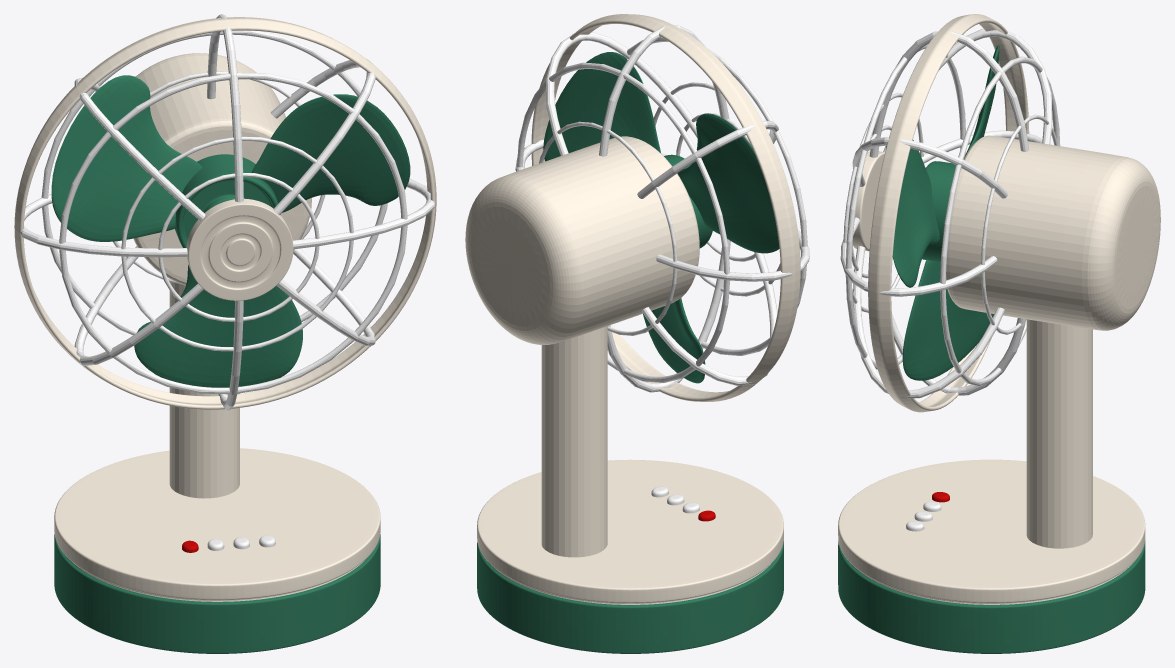
File: 01_Fan_Electric.fbx
3 views of the same model, side by side, from view 1: azimuth 30°, elevation 25°; view 2: azimuth 150°, elevation 25°; view 3: azimuth 270°, elevation 25° (orthographic). The views are drawn at different scales.
Parts seen in each view (by area): view 1: Cylinder_005, Sphere_011, Cylinder_001, Cylinder, Cylinder_148, Sphere_003, Cylinder_002, Cylinder_003, Cylinder_004, Sphere_002, Cylinder_144, Sphere_007 (+7 smaller); view 2: Cylinder_005, Cylinder, Cylinder_004, Sphere_011, Cylinder_001, Cylinder_002, Sphere_003, Sphere_002, Sphere_007, Cylinder_148, Sphere_009, Sphere_001 (+4 smaller); view 3: Cylinder_005, Cylinder, Cylinder_004, Sphere_011, Sphere_003, Cylinder_148, Cylinder_002, Sphere_008, Sphere_002, Sphere_001, Cylinder_003, Cylinder_144 (+6 smaller).
Part boxes in pixels (x1,y1,x2,y2): Cylinder_005: (54, 448, 380, 653); Sphere_011: (14, 17, 436, 409); Cylinder_001: (51, 75, 202, 241); Cylinder: (133, 53, 311, 285); Cylinder_148: (134, 264, 302, 387); Sphere_003: (41, 30, 407, 394); Cylinder_002: (251, 94, 410, 212); Cylinder_003: (186, 198, 293, 300); Cylinder_004: (169, 282, 239, 498); Sphere_002: (113, 71, 353, 351); Cylinder_144: (175, 154, 280, 247); Sphere_007: (270, 59, 375, 214); Cylinder_005: (477, 459, 783, 653); Cylinder: (465, 136, 699, 344); Cylinder_004: (541, 326, 607, 557); Sphere_011: (531, 14, 800, 401); Cylinder_001: (677, 113, 779, 253); Cylinder_002: (543, 52, 660, 161); Sphere_003: (517, 37, 807, 382); Sphere_002: (539, 82, 780, 335); Sphere_007: (546, 32, 697, 155); Cylinder_148: (643, 298, 705, 383); Sphere_009: (641, 252, 777, 385); Sphere_001: (599, 25, 729, 156); Cylinder_005: (838, 459, 1145, 653); Cylinder: (946, 135, 1160, 330); Cylinder_004: (1026, 319, 1092, 548); Sphere_011: (868, 14, 1029, 412); Sphere_003: (845, 44, 1060, 385); Cylinder_148: (902, 259, 994, 380); Cylinder_002: (885, 140, 939, 287); Sphere_008: (853, 246, 1004, 398); Sphere_002: (843, 92, 1058, 334); Sphere_001: (869, 31, 1029, 157); Cylinder_003: (848, 151, 884, 251); Cylinder_144: (922, 161, 955, 262).
Bounding box in the file's own units: 3.08 × 4.91 × 2.6.
